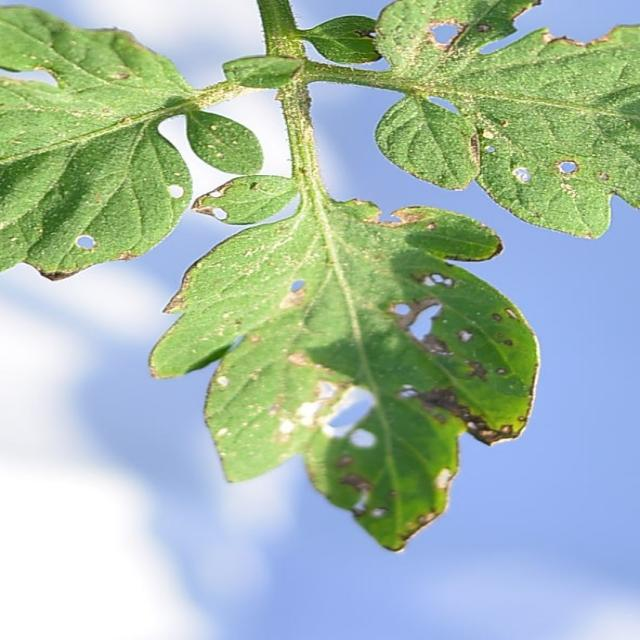infected: (178, 207, 542, 552), (412, 92, 613, 197), (414, 0, 640, 77), (51, 180, 258, 252)
